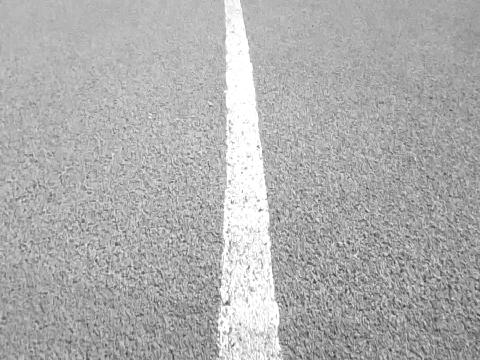Lines: (218, 0, 286, 360)
